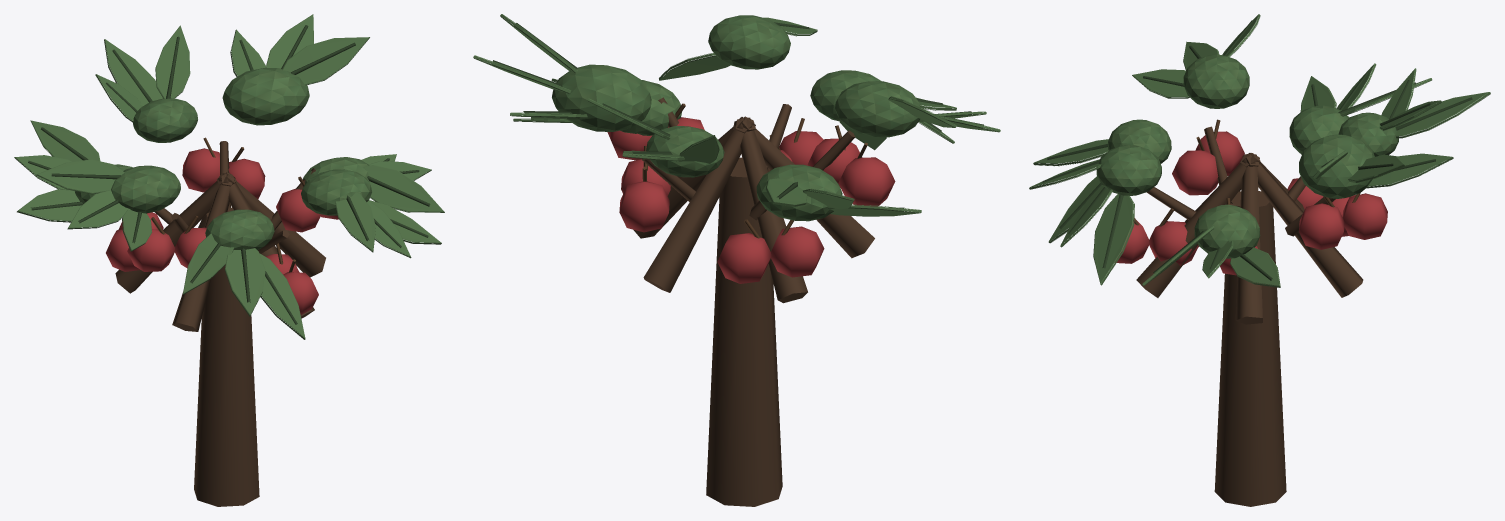
Rendered from cherry.glb.
3 views of the same model, side by side, from view 1: azimuth 30°, elevation 25°; view 2: azimuth 150°, elevation 25°; view 3: azimuth 270°, elevation 25° (orthographic). The views are drawn at different scales.
Visible parts, largest first — view 1: plant.crop-cherry; view 2: plant.crop-cherry; view 3: plant.crop-cherry.
Part boxes in pixels (x1,y1,x2,y2): plant.crop-cherry: (14, 14, 444, 506); plant.crop-cherry: (473, 14, 1000, 506); plant.crop-cherry: (1029, 14, 1490, 506).
Size of the model in its own units: 2.29 by 2.29 by 2.32.
